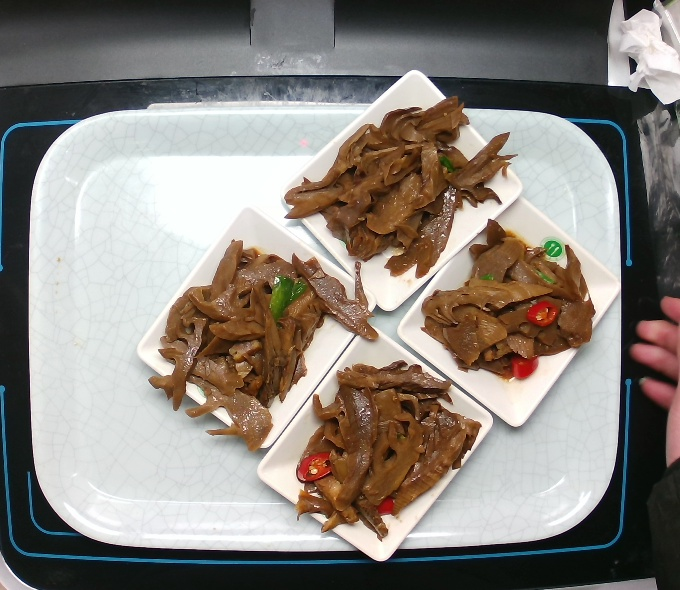wcq-SunGan: (121, 234, 378, 456), (272, 88, 519, 285), (267, 360, 484, 544), (391, 219, 603, 385)
